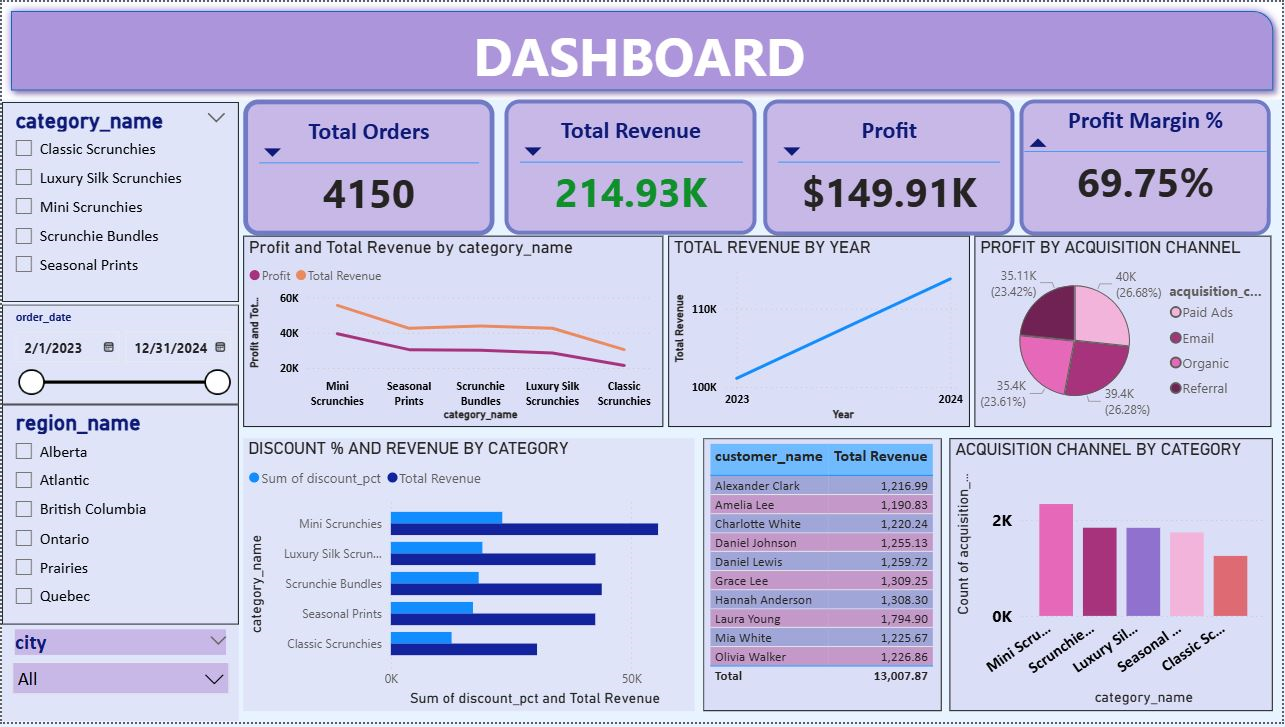

Layout of this report page (visuals, bound fields, positions):
{"tool":"powerbi","page":{"name":"01_Dashboard","canvas":[1280,720],"ordinal":0},"visuals":[{"type":"shape","box":[0,0,1280.3,97.4],"z":0},{"type":"tableEx","fields":{"Values":["Measure_Table.Profit"]},"box":[761,97.1,251.4,135.7],"z":1000},{"type":"tableEx","fields":{"Values":["Measure_Table.Profit Margin %"]},"box":[1017.1,97.1,251.4,135.7],"z":2000},{"type":"tableEx","fields":{"Values":["Measure_Table.Total Orders"]},"box":[241.4,97.1,251.4,135.7],"z":3000},{"type":"tableEx","fields":{"Values":["Measure_Table.Total Revenue"]},"box":[502.9,97.1,252,135],"z":4000},{"type":"lineChart","title":"TOTAL REVENUE BY YEAR","fields":{"Category":["vw_sales.order_date.Variation.Date Hierarchy.Year","vw_sales.order_date.Variation.Date Hierarchy.Quarter","vw_sales.order_date.Variation.Date Hierarchy.Month","vw_sales.order_date.Variation.Date Hierarchy.Day"],"Y":["Measure_Table.Total Revenue"]},"box":[665.7,234.3,301.4,191.4],"z":5000},{"type":"lineChart","fields":{"Category":["vw_sales.category_name"],"Y":["Measure_Table.Profit","Measure_Table.Total Revenue"]},"box":[241.4,234.3,420,191.4],"z":6000},{"type":"tableEx","fields":{"Values":["vw_sales.customer_name","Measure_Table.Total Revenue"]},"box":[701.2,436.2,238.8,272.5],"z":8000},{"type":"slicer","fields":{"Values":["vw_sales.category_name"]},"box":[0,100,237.1,200],"z":9000},{"type":"slicer","fields":{"Values":["vw_sales.order_date"]},"box":[0,302.9,237.1,100],"z":10000},{"type":"slicer","fields":{"Values":["vw_sales.region_name"]},"box":[0,402.9,237.1,220],"z":11000},{"type":"slicer","fields":{"Values":["vw_sales.city"]},"box":[0,622.9,237.1,97.1],"z":12000},{"type":"pieChart","title":"PROFIT BY ACQUISITION CHANNEL","fields":{"Category":["vw_sales.acquisition_channel"],"Y":["Measure_Table.Profit"]},"box":[972.9,234.3,297.1,191.4],"z":13000},{"type":"clusteredColumnChart","title":"ACQUISITION CHANNEL BY CATEGORY","fields":{"Category":["vw_sales.category_name"],"Y":["CountNonNull(vw_sales.acquisition_channel)"]},"box":[947.1,435.7,322.9,272.9],"z":14000},{"type":"clusteredBarChart","title":"DISCOUNT % AND REVENUE BY CATEGORY","fields":{"Category":["vw_sales.category_name"],"Y":["Sum(vw_sales.discount_pct)","Measure_Table.Total Revenue"]},"box":[241.2,436.2,451.2,272.5],"z":14001}]}

Visuals, with their boxes in screenshot pixels (x1, y1, x2, y2), scaled from the page's 1280x720 canvas onto the 1285x727 screenshot:
shape: select_region(0, 0, 1284, 98)
tableEx - Measure_Table.Profit: select_region(764, 98, 1016, 235)
tableEx - Measure_Table.Profit Margin %: select_region(1021, 98, 1273, 235)
tableEx - Measure_Table.Total Orders: select_region(242, 98, 495, 235)
tableEx - Measure_Table.Total Revenue: select_region(505, 98, 758, 234)
"TOTAL REVENUE BY YEAR" lineChart: select_region(668, 237, 971, 430)
lineChart - vw_sales.category_name x Measure_Table.Profit: select_region(242, 237, 664, 430)
tableEx - vw_sales.customer_name x Measure_Table.Total Revenue: select_region(704, 440, 944, 716)
slicer - vw_sales.category_name: select_region(0, 101, 238, 303)
slicer - vw_sales.order_date: select_region(0, 306, 238, 407)
slicer - vw_sales.region_name: select_region(0, 407, 238, 629)
slicer - vw_sales.city: select_region(0, 629, 238, 726)
"PROFIT BY ACQUISITION CHANNEL" pieChart: select_region(977, 237, 1275, 430)
"ACQUISITION CHANNEL BY CATEGORY" clusteredColumnChart: select_region(951, 440, 1275, 715)
"DISCOUNT % AND REVENUE BY CATEGORY" clusteredBarChart: select_region(242, 440, 695, 716)
